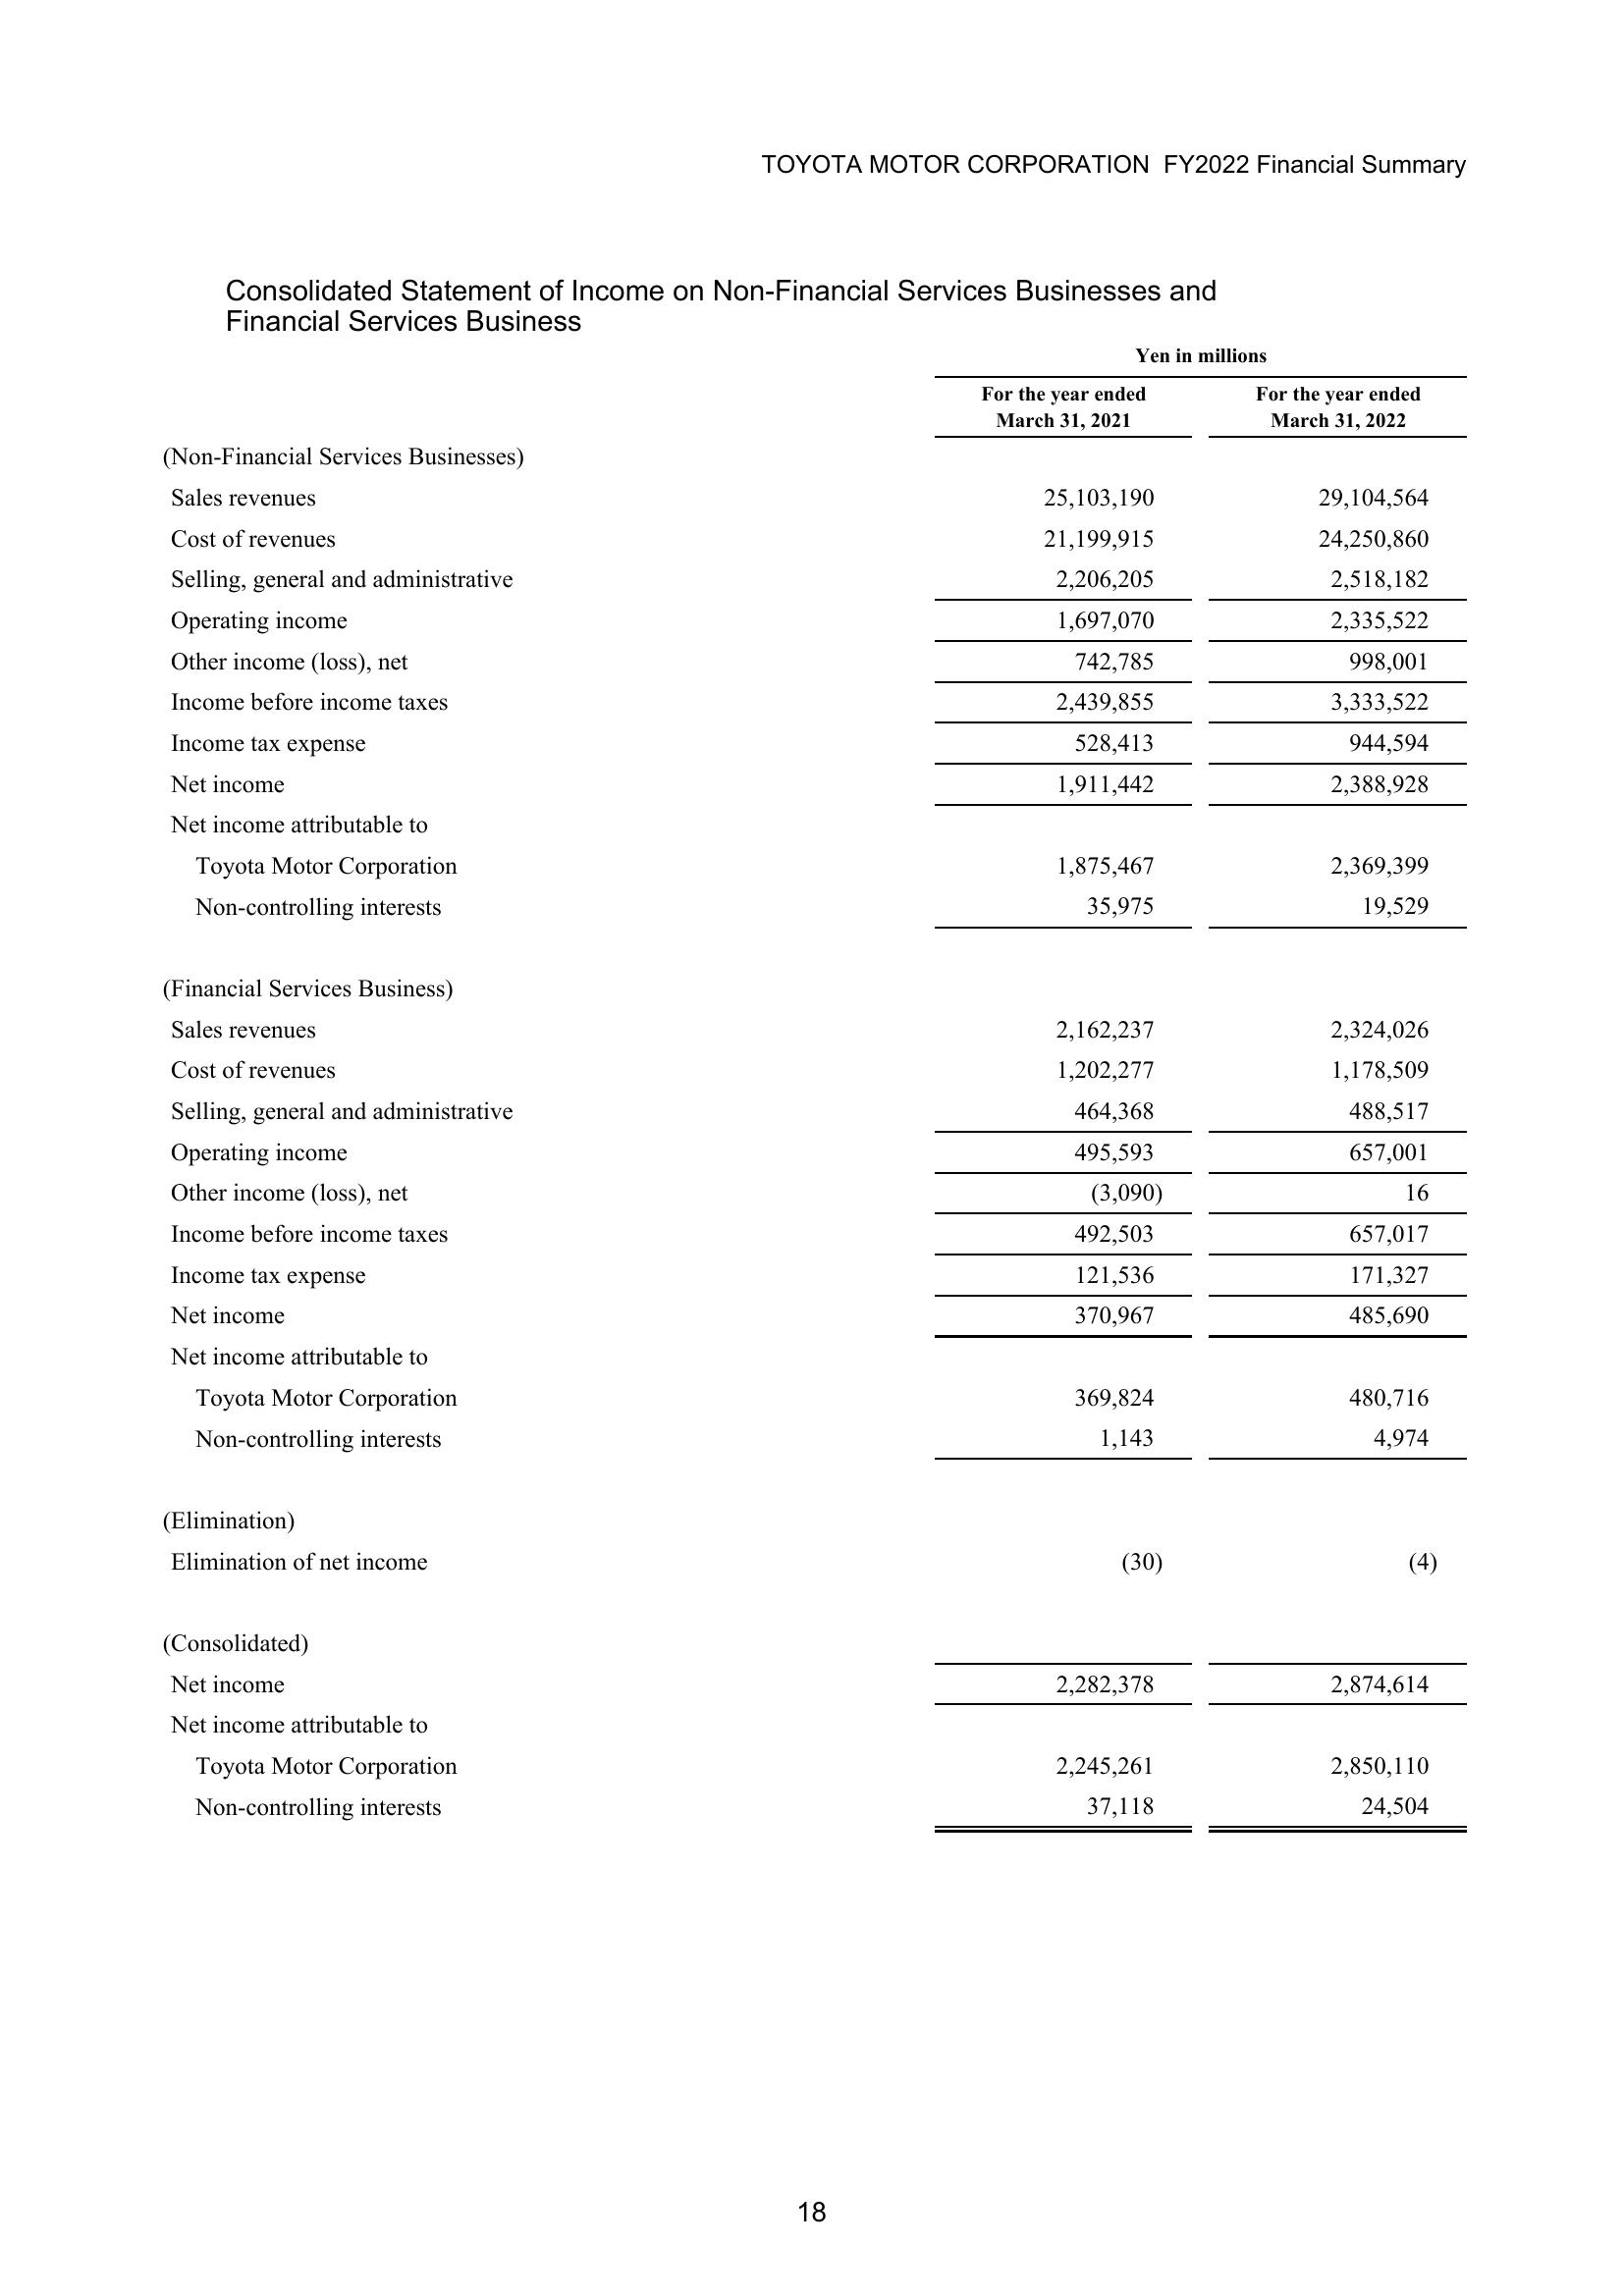Footer: (0, 2184, 1624, 2296)
Header: (0, 0, 1624, 211)
Table: (69, 336, 1492, 1871)
